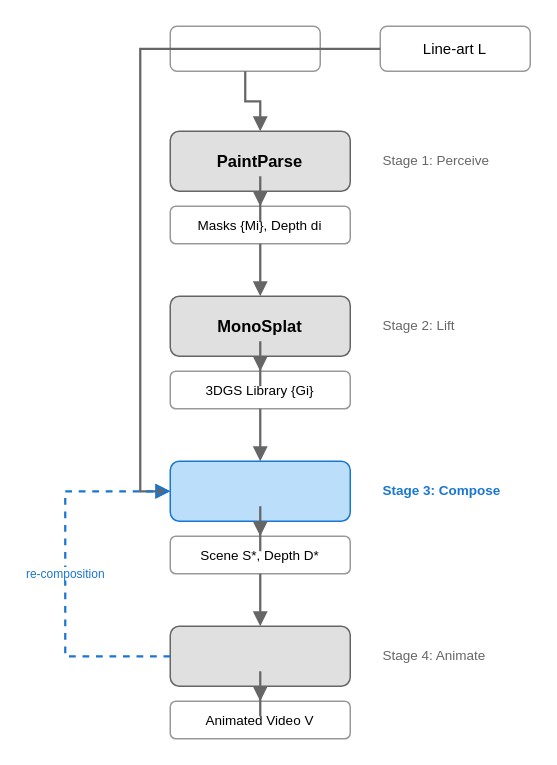
The diagram is 557 pixels wide and 765 high, and some of its shapes have lost their labels. The shapes that lost their labels are listed below. From the top down, each one's centre as x and y in pixels, then its label:
[244,48]: Painting P
[259,490]: SketchComp
[259,655]: ArtiFlow
